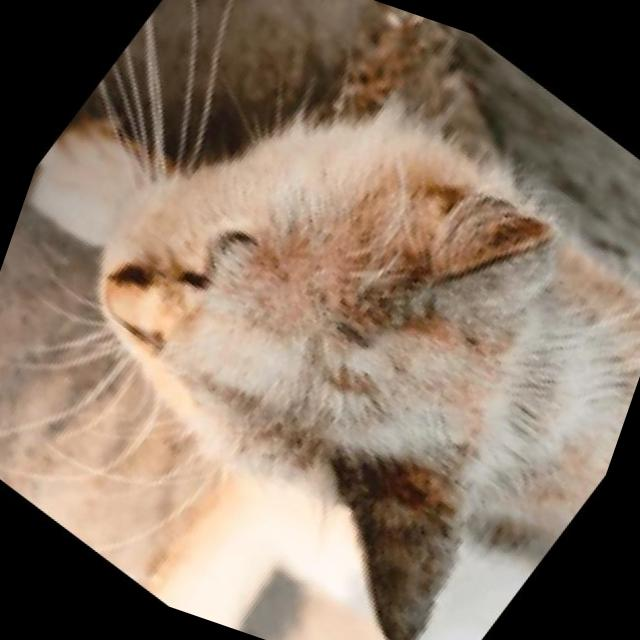Mange: (300, 235, 452, 376), (265, 230, 378, 350)
